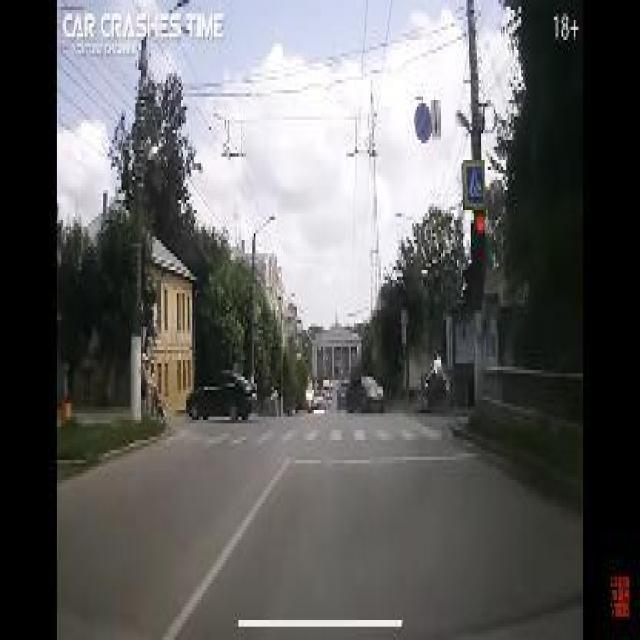accident: (415, 350, 450, 423)
